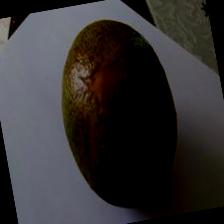Orange Rotten: (43, 0, 201, 220)
